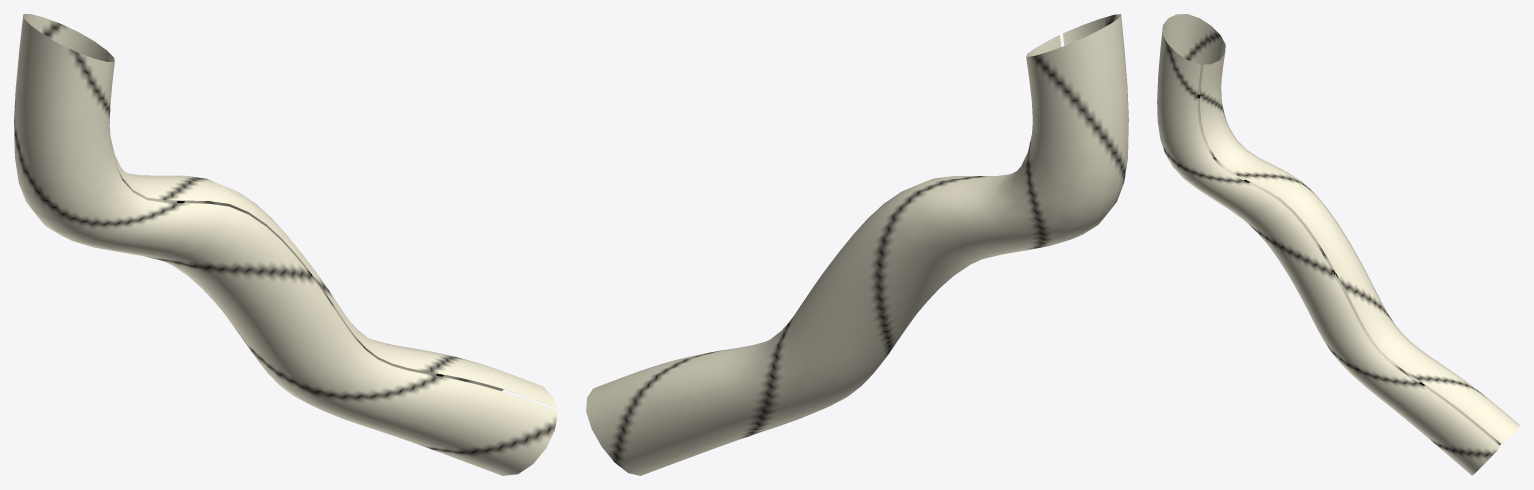
Rendered from short-rope.obj.
The picture shows the model from 3 angles, left to right: view 1: azimuth 30°, elevation 25°; view 2: azimuth 150°, elevation 25°; view 3: azimuth 330°, elevation 25°; orthographic projection. The views are drawn at different scales.
Visible parts, largest first — view 1: Rope.001_Cube.1452; view 2: Rope.001_Cube.1452; view 3: Rope.001_Cube.1452.
Boxes of the visible parts, <box> form: Rope.001_Cube.1452: <box>14,14,557,475</box>; Rope.001_Cube.1452: <box>586,14,1128,475</box>; Rope.001_Cube.1452: <box>1157,14,1519,475</box>.
Size of the model in its own units: 1.58 by 1.6 by 0.2623.
1 material, 1 textured.
